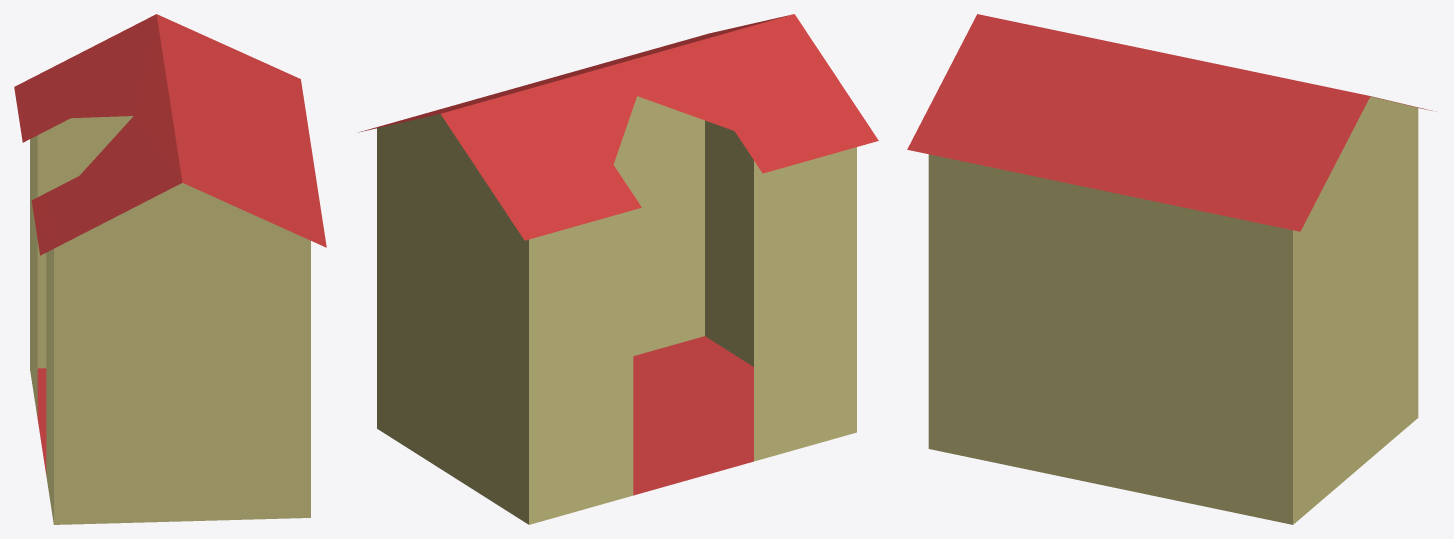
The picture shows the model from 3 angles, left to right: view 1: azimuth 30°, elevation 25°; view 2: azimuth 150°, elevation 25°; view 3: azimuth 270°, elevation 25°; orthographic projection. The views are drawn at different scales.
Bounding box in the file's own units: 14.73 × 16.47 × 12.89.
